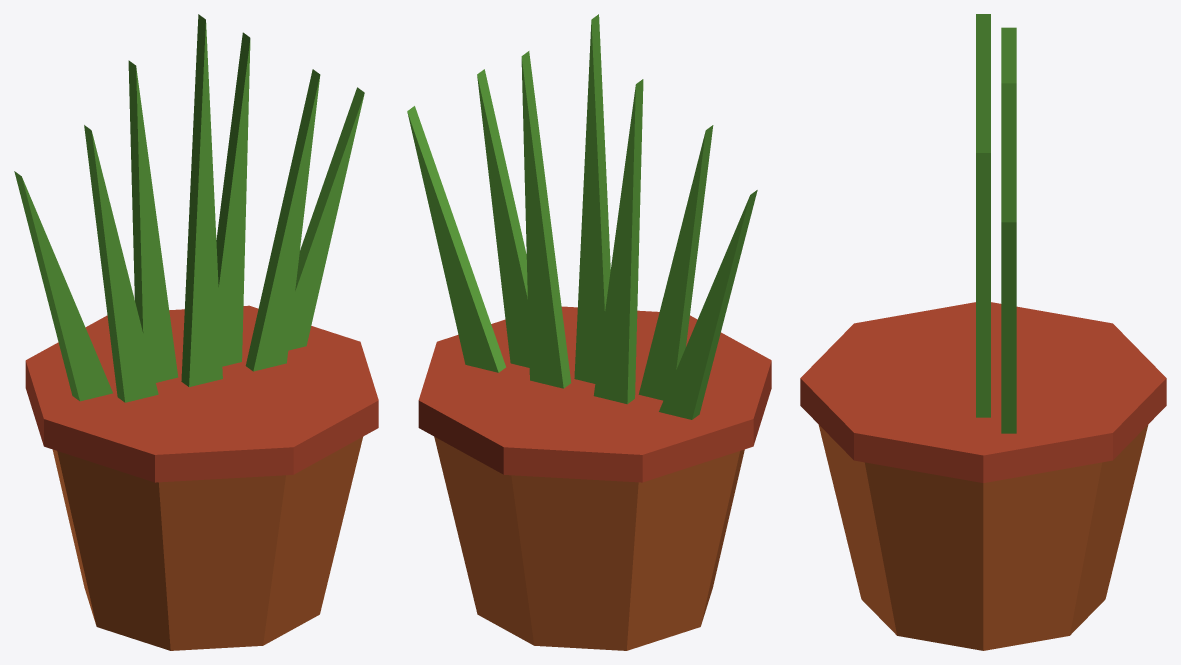
Rendered from cat_grass_pot.glb.
3 views of the same model, side by side, from view 1: azimuth 30°, elevation 25°; view 2: azimuth 150°, elevation 25°; view 3: azimuth 270°, elevation 25° (orthographic).
Visible parts, largest first — view 1: cat_grass_pot; view 2: cat_grass_pot; view 3: cat_grass_pot.
Boxes of the visible parts, x1,y1,x2,y2 form: cat_grass_pot: [14, 14, 378, 650]; cat_grass_pot: [407, 14, 771, 650]; cat_grass_pot: [800, 14, 1166, 650].
Size of the model in its own units: 0.78 by 1.27 by 0.72.
